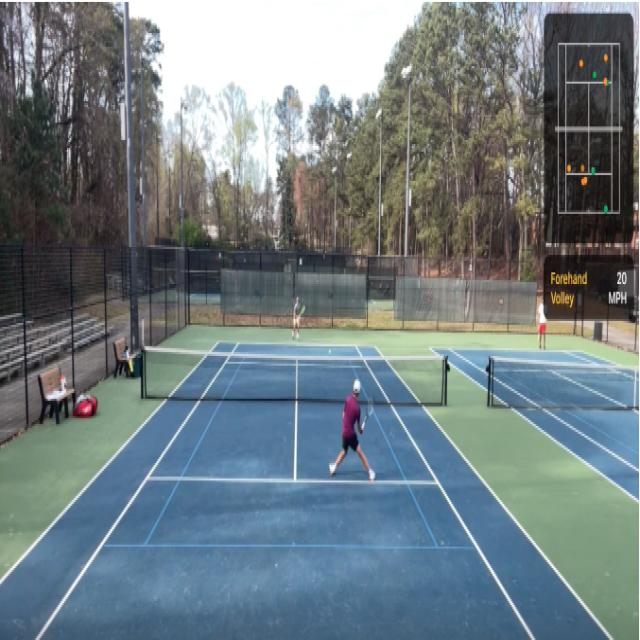ball: (328, 348, 331, 354)
